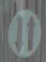Two way: (1, 2, 45, 55)
